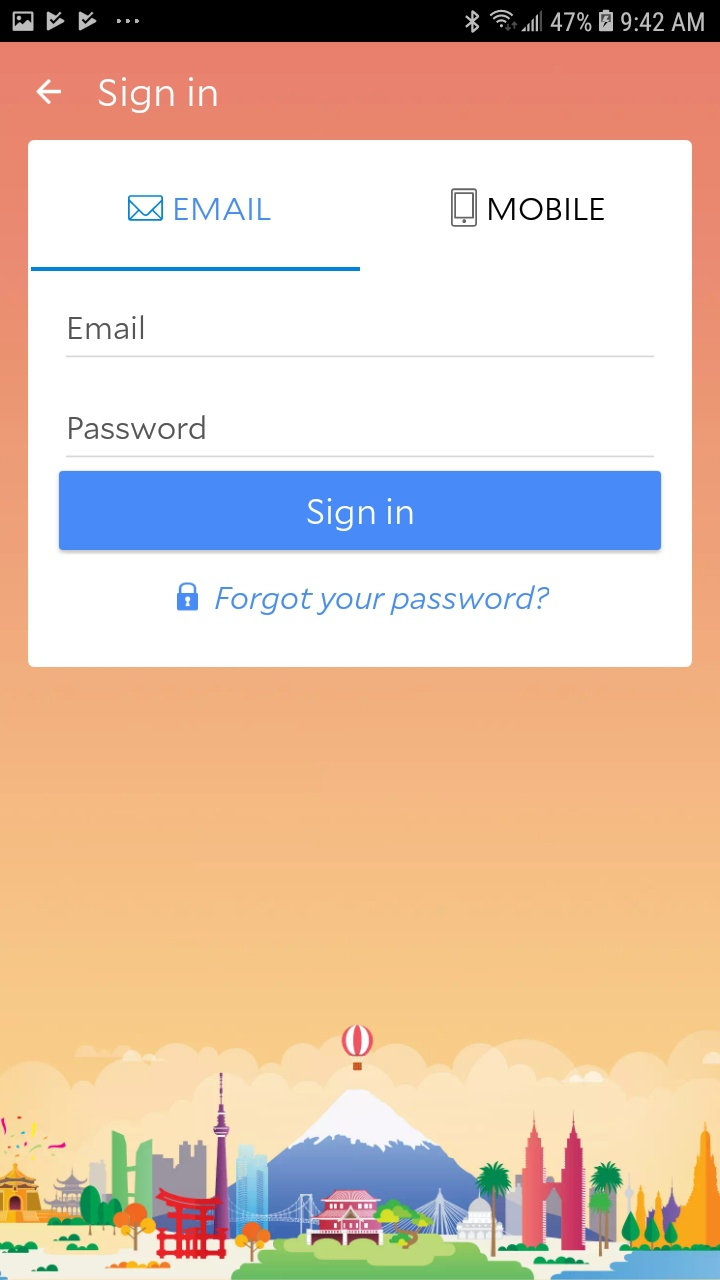BackgroundImage: (1, 43, 720, 1280)
EditText: (66, 414, 655, 458), (66, 315, 655, 359)
Icon: (451, 188, 478, 228), (128, 195, 165, 222), (36, 79, 63, 106), (177, 582, 199, 612)
Image: (1, 1023, 720, 1280)
Text: (215, 585, 551, 617), (98, 76, 218, 115), (70, 415, 206, 440), (489, 198, 605, 222), (175, 198, 272, 222), (69, 315, 144, 341)
TextButton: (59, 471, 662, 552)
UpperTaskBar: (1, 1, 720, 43)
